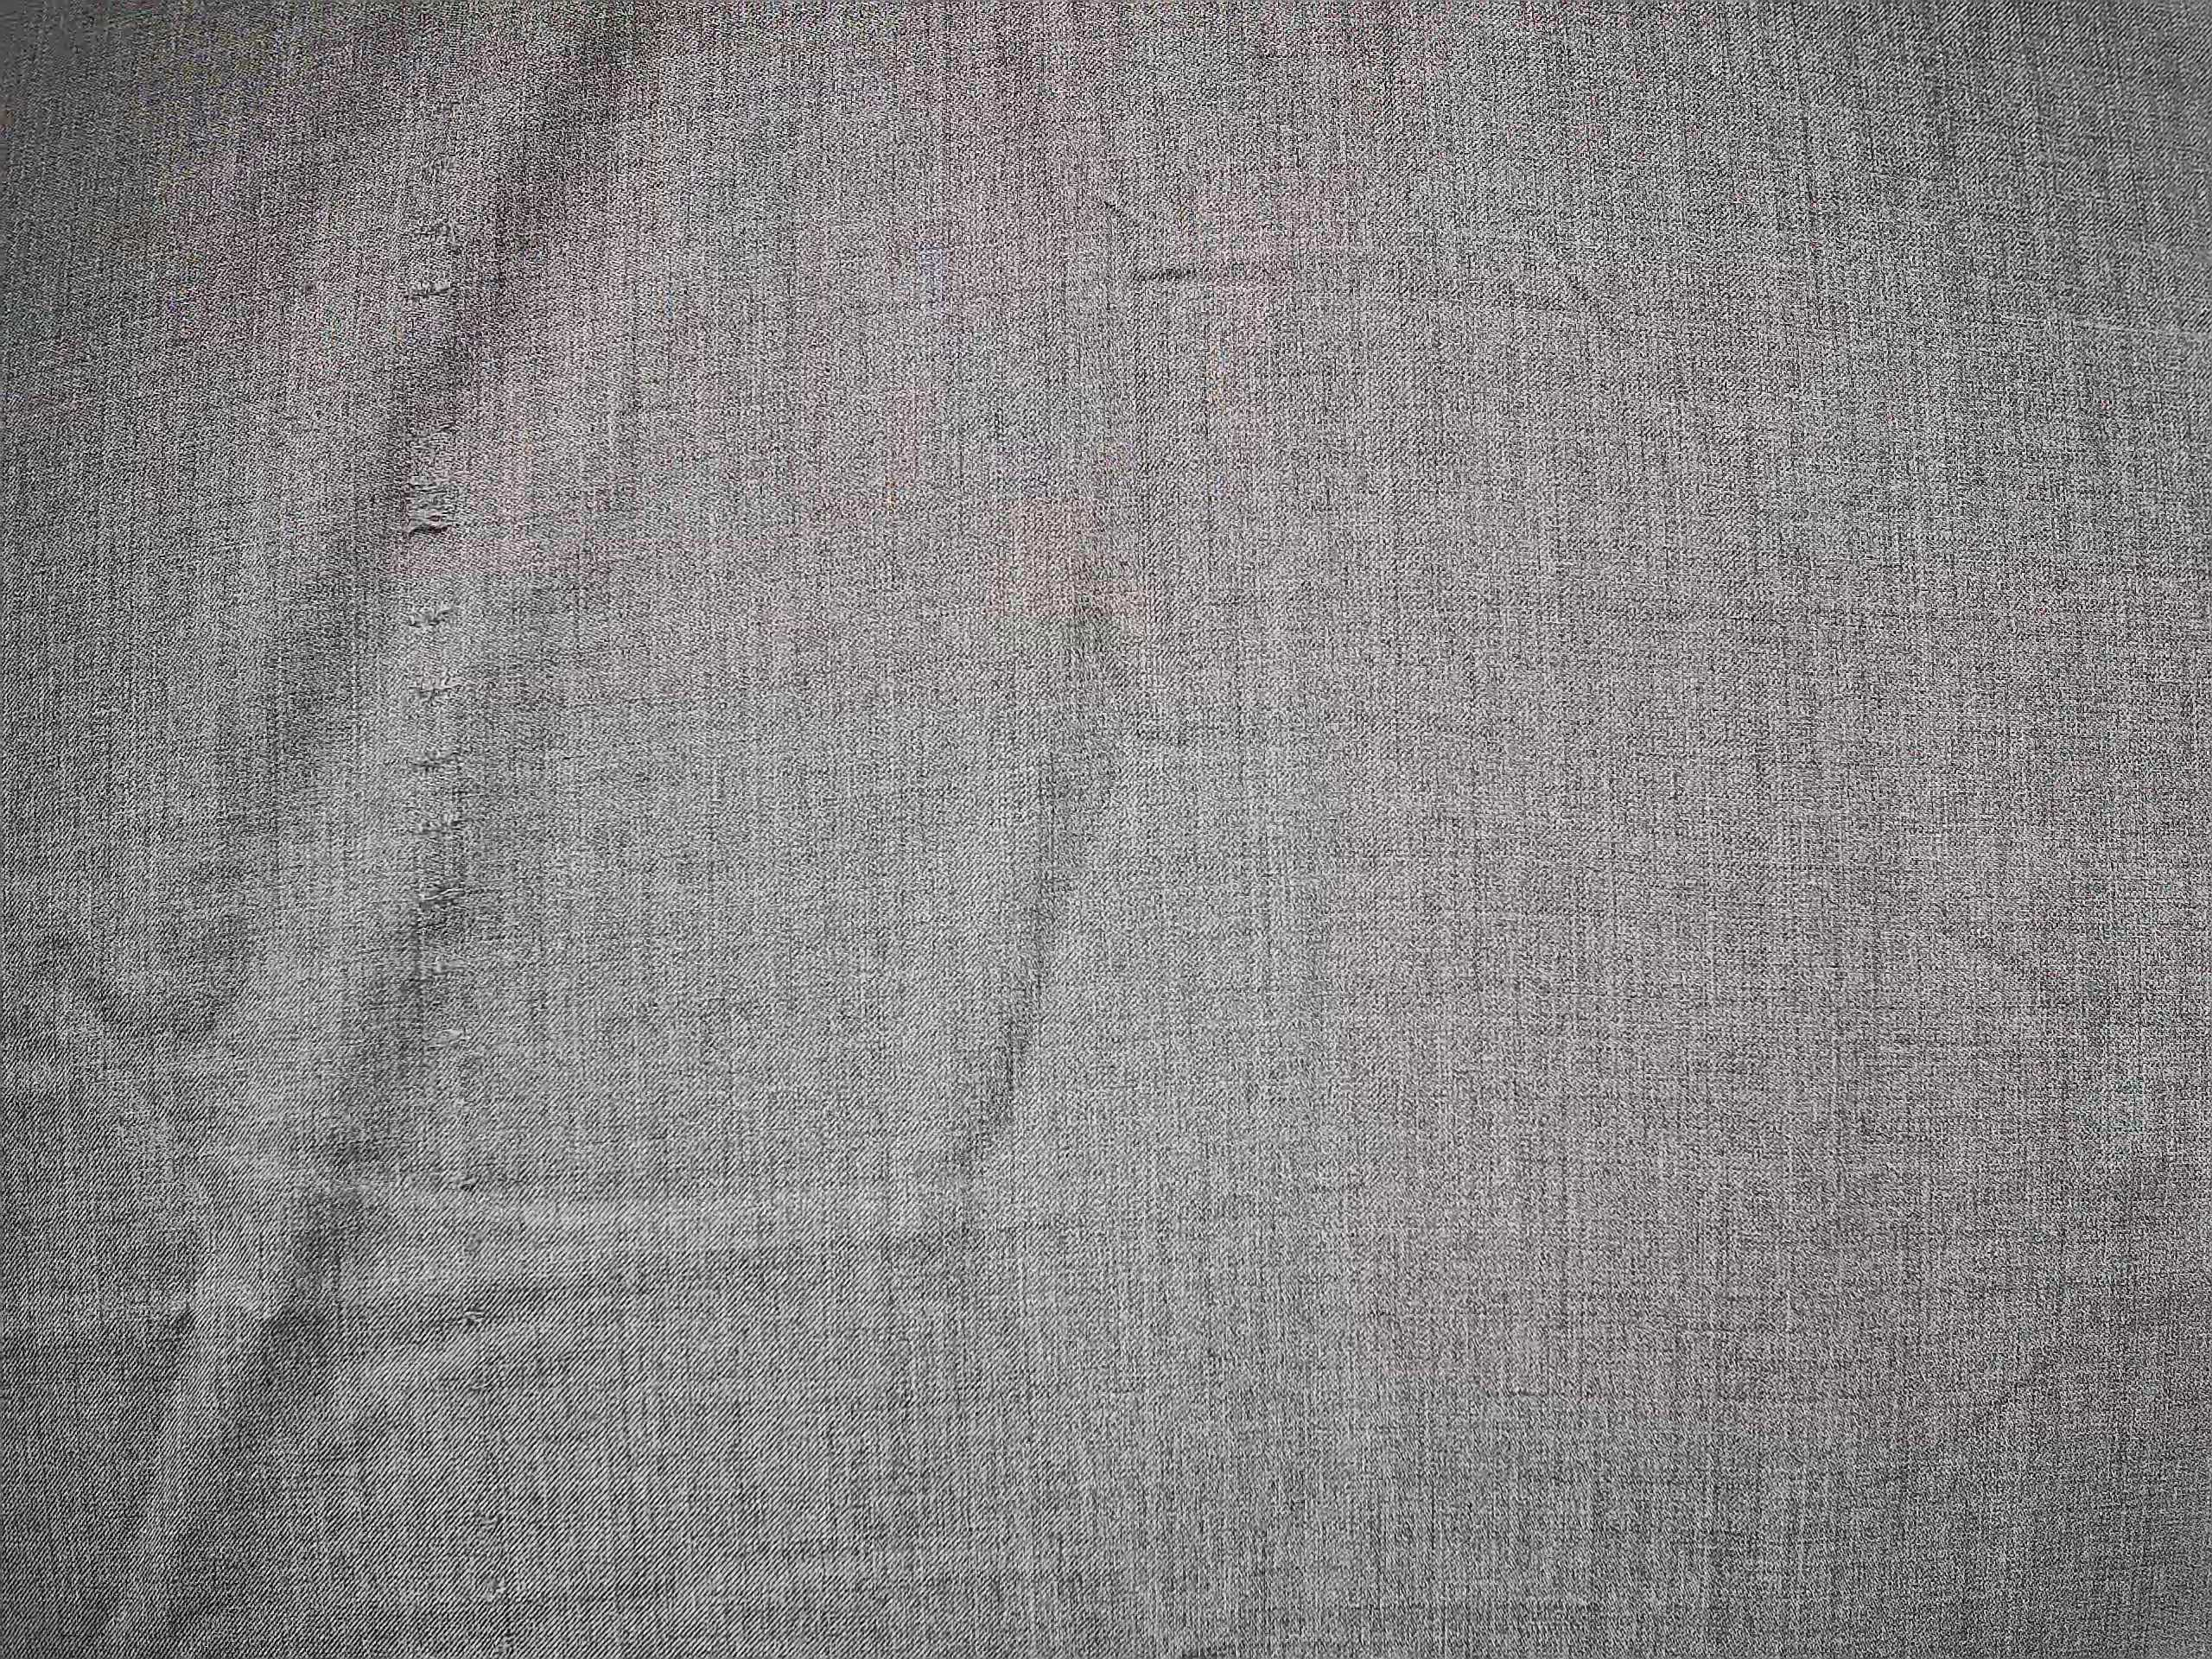rubbing-hole: (394, 204, 495, 1197)
